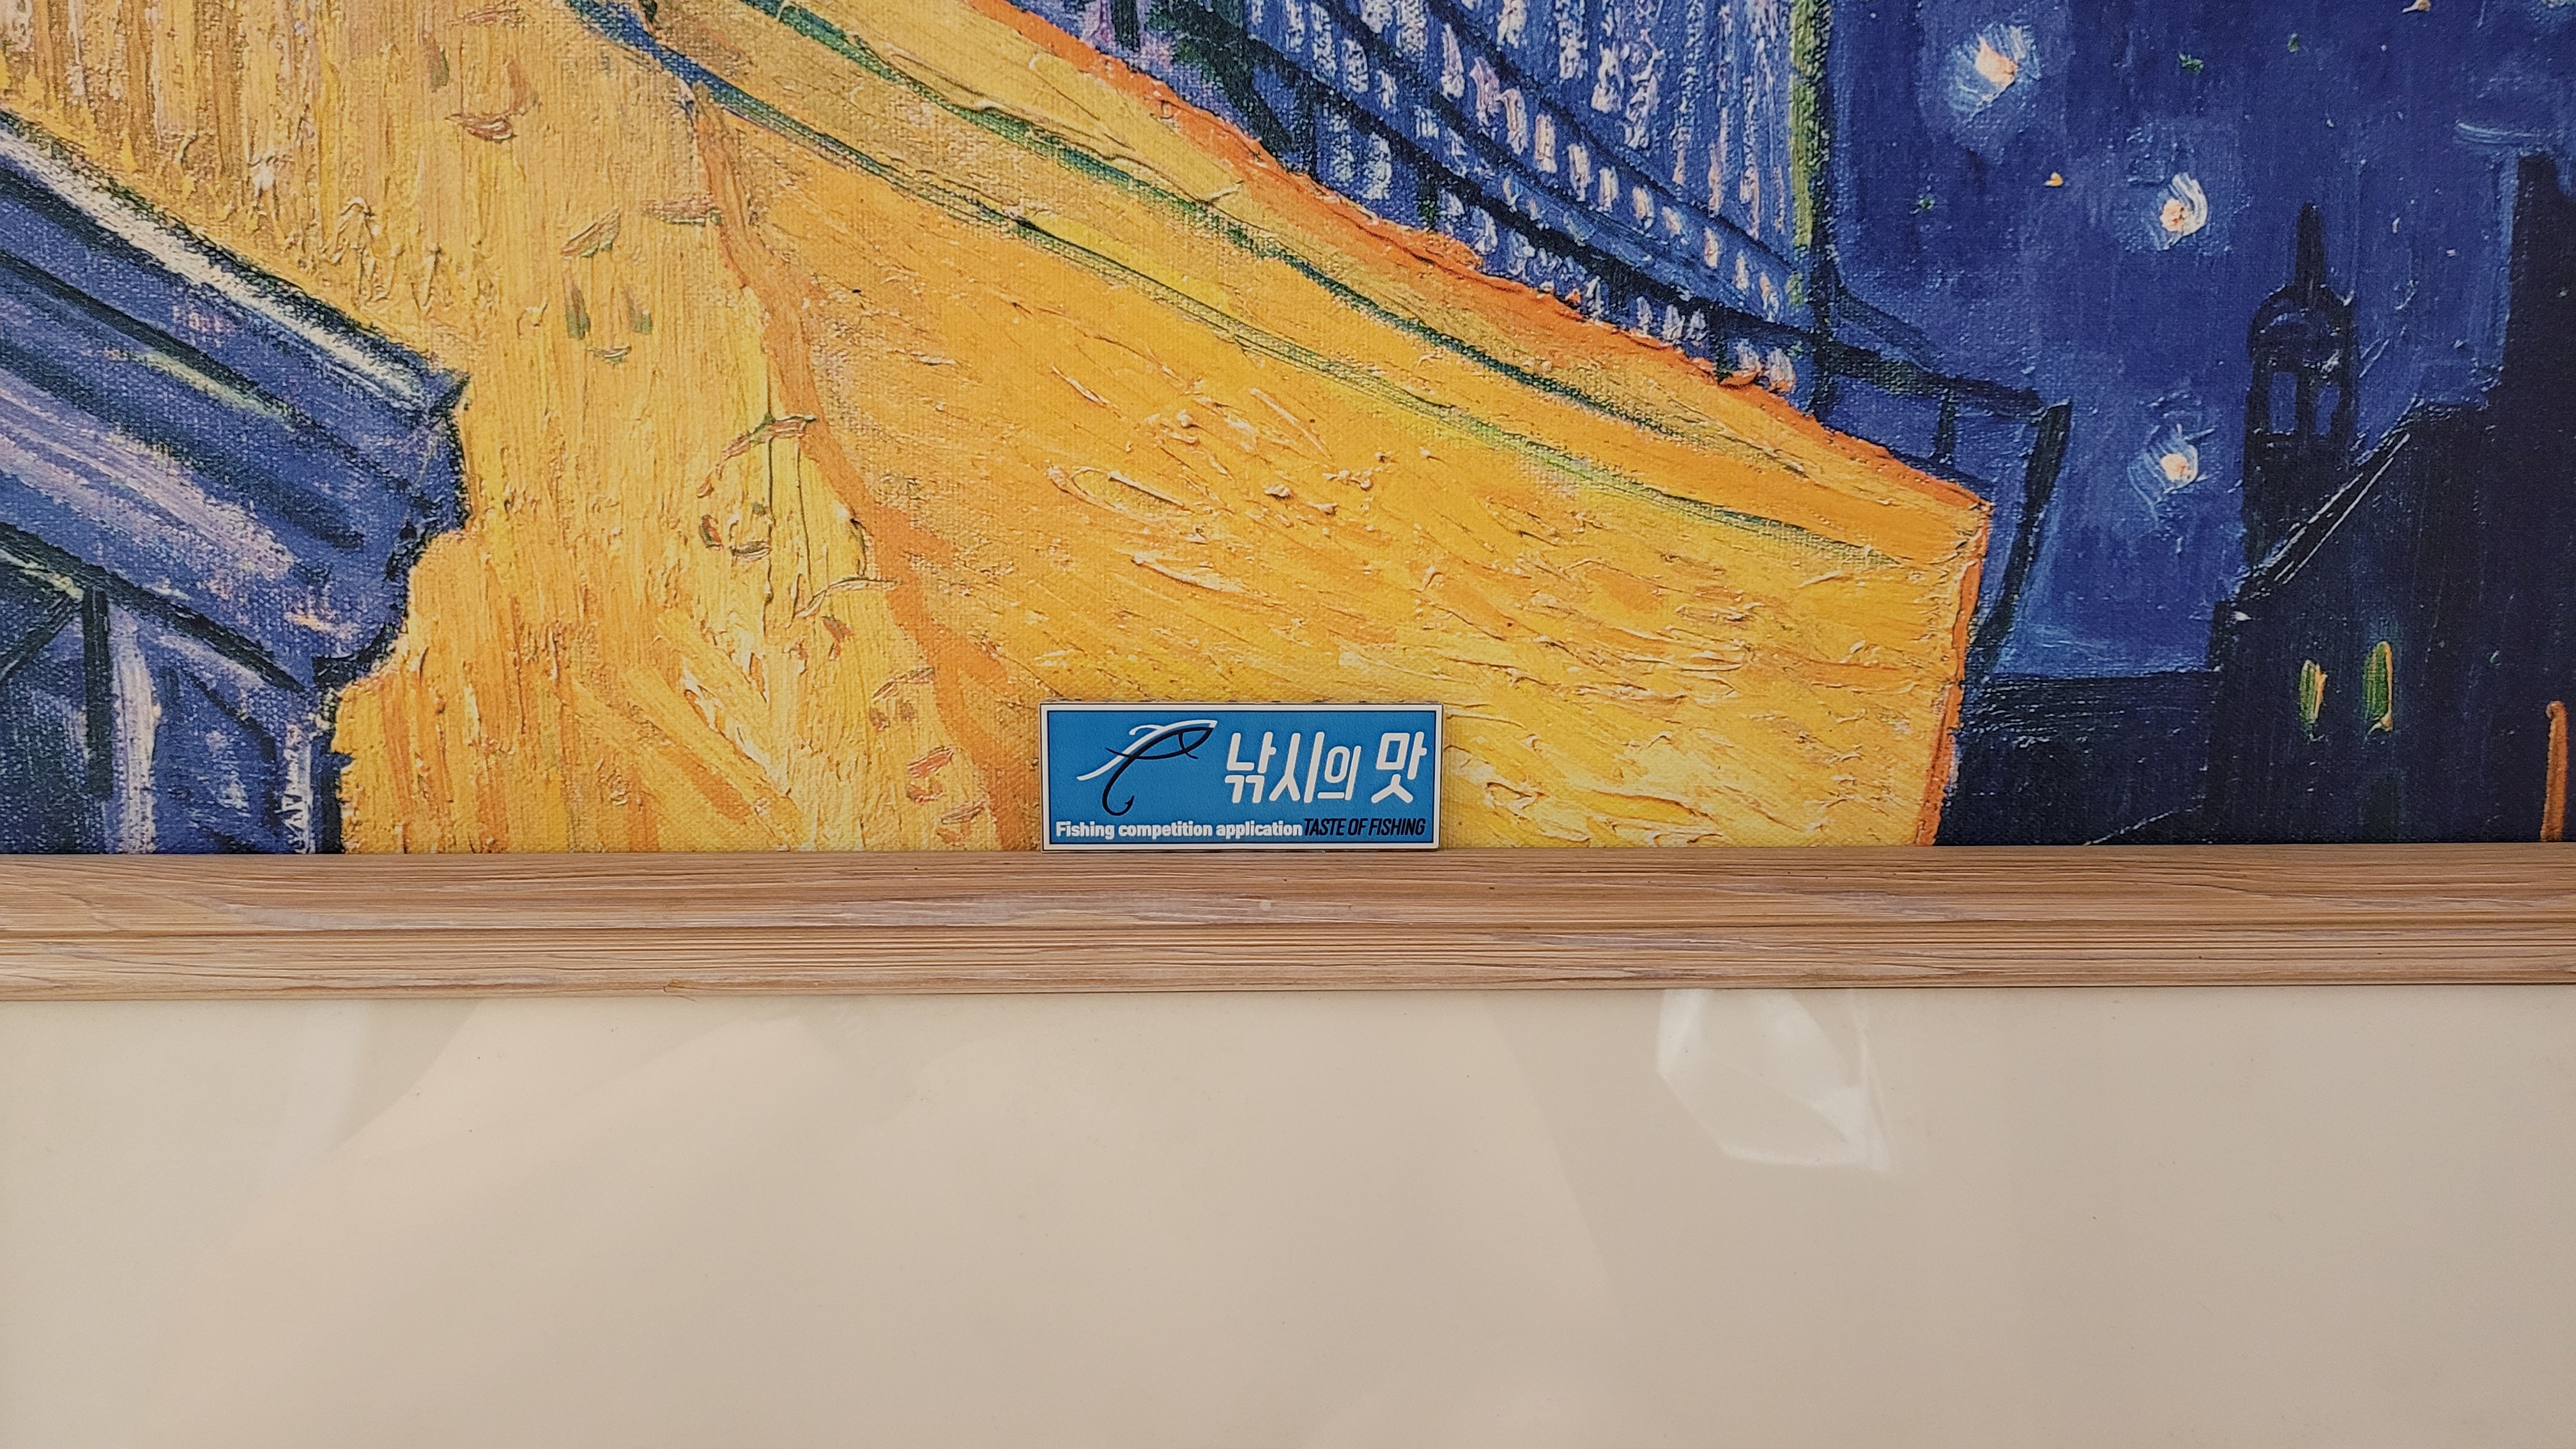tag: (1042, 708, 1440, 849)
